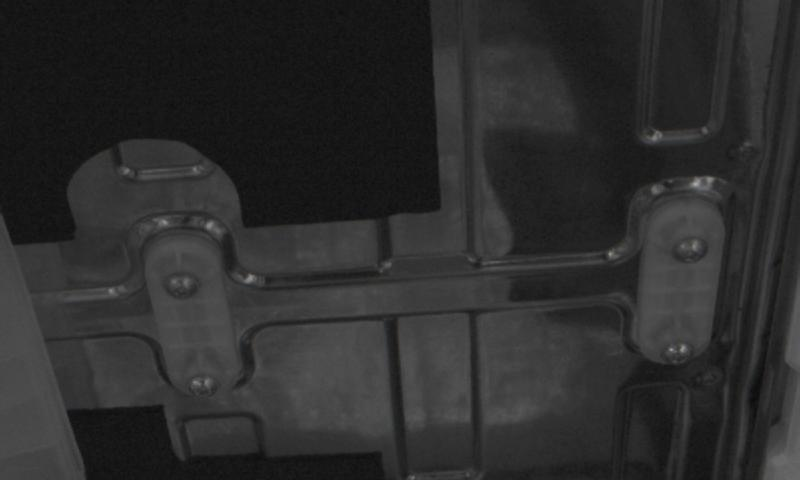vida-ok: (672, 227, 715, 272), (161, 261, 201, 306), (182, 365, 224, 405), (657, 332, 697, 370)
